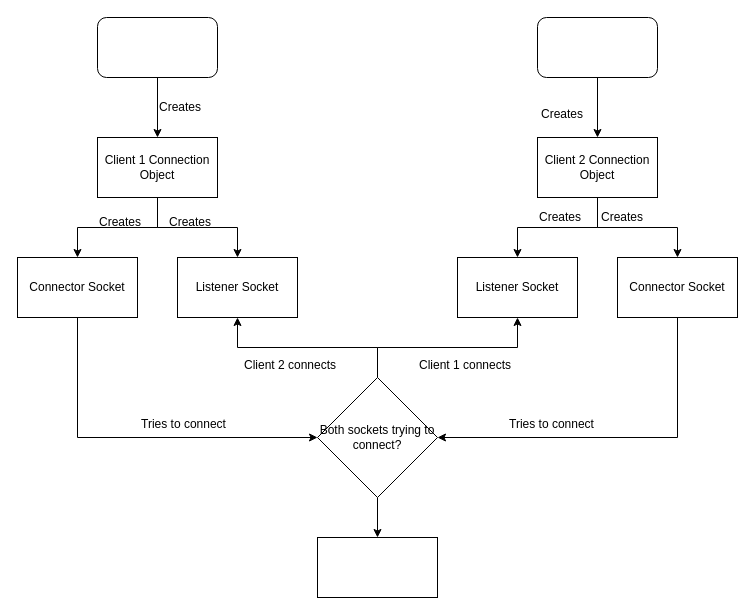
This 755x615 diagram has some shape labels left out. The centre of each missing label's shape, as x and y in pixels:
"Client 1" goes at (157,47).
"Client 2" goes at (597,47).
"Connection timeout" goes at (377,567).
